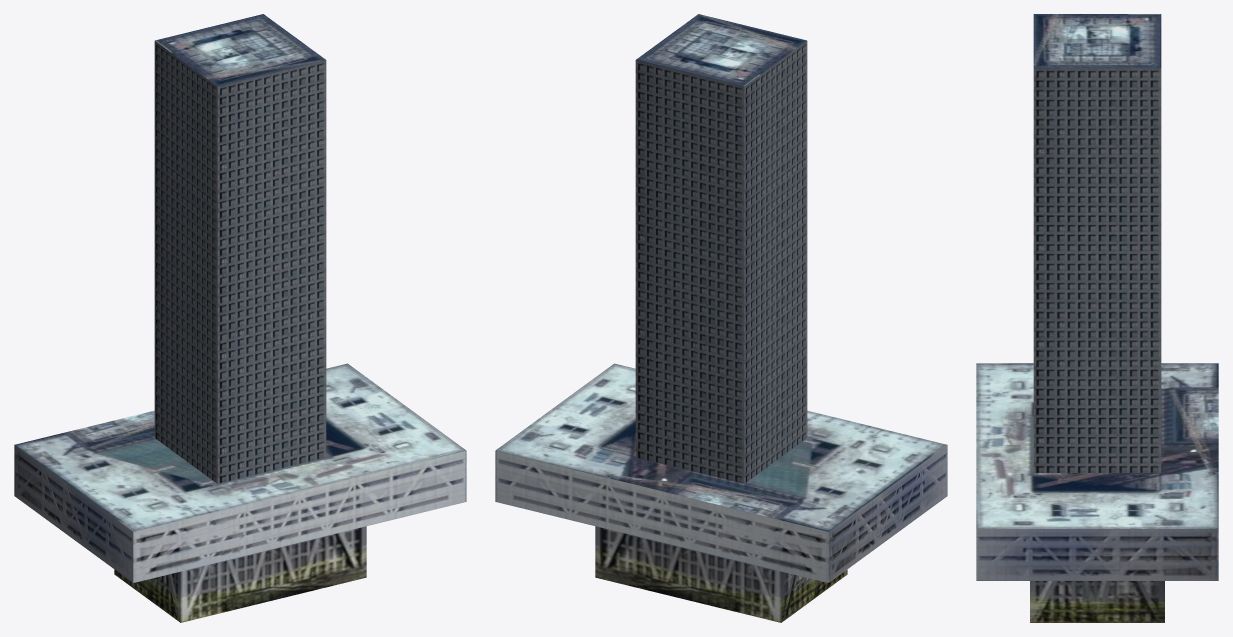
Rendered from stock_exchange_de23a9e4.glb.
3 renders of one model, left to right at view 1: azimuth 30°, elevation 25°; view 2: azimuth 150°, elevation 25°; view 3: azimuth 270°, elevation 25°, orthographic.
Visible parts, largest first — view 1: stock_exchange_de23a9e4; view 2: stock_exchange_de23a9e4; view 3: stock_exchange_de23a9e4.
Boxes of the visible parts, bbox=[...] form: stock_exchange_de23a9e4: bbox=[14, 14, 466, 622]; stock_exchange_de23a9e4: bbox=[495, 14, 947, 622]; stock_exchange_de23a9e4: bbox=[976, 14, 1218, 622].
Size of the model in its own units: 163 by 246 by 101.
1 material, 1 textured.
